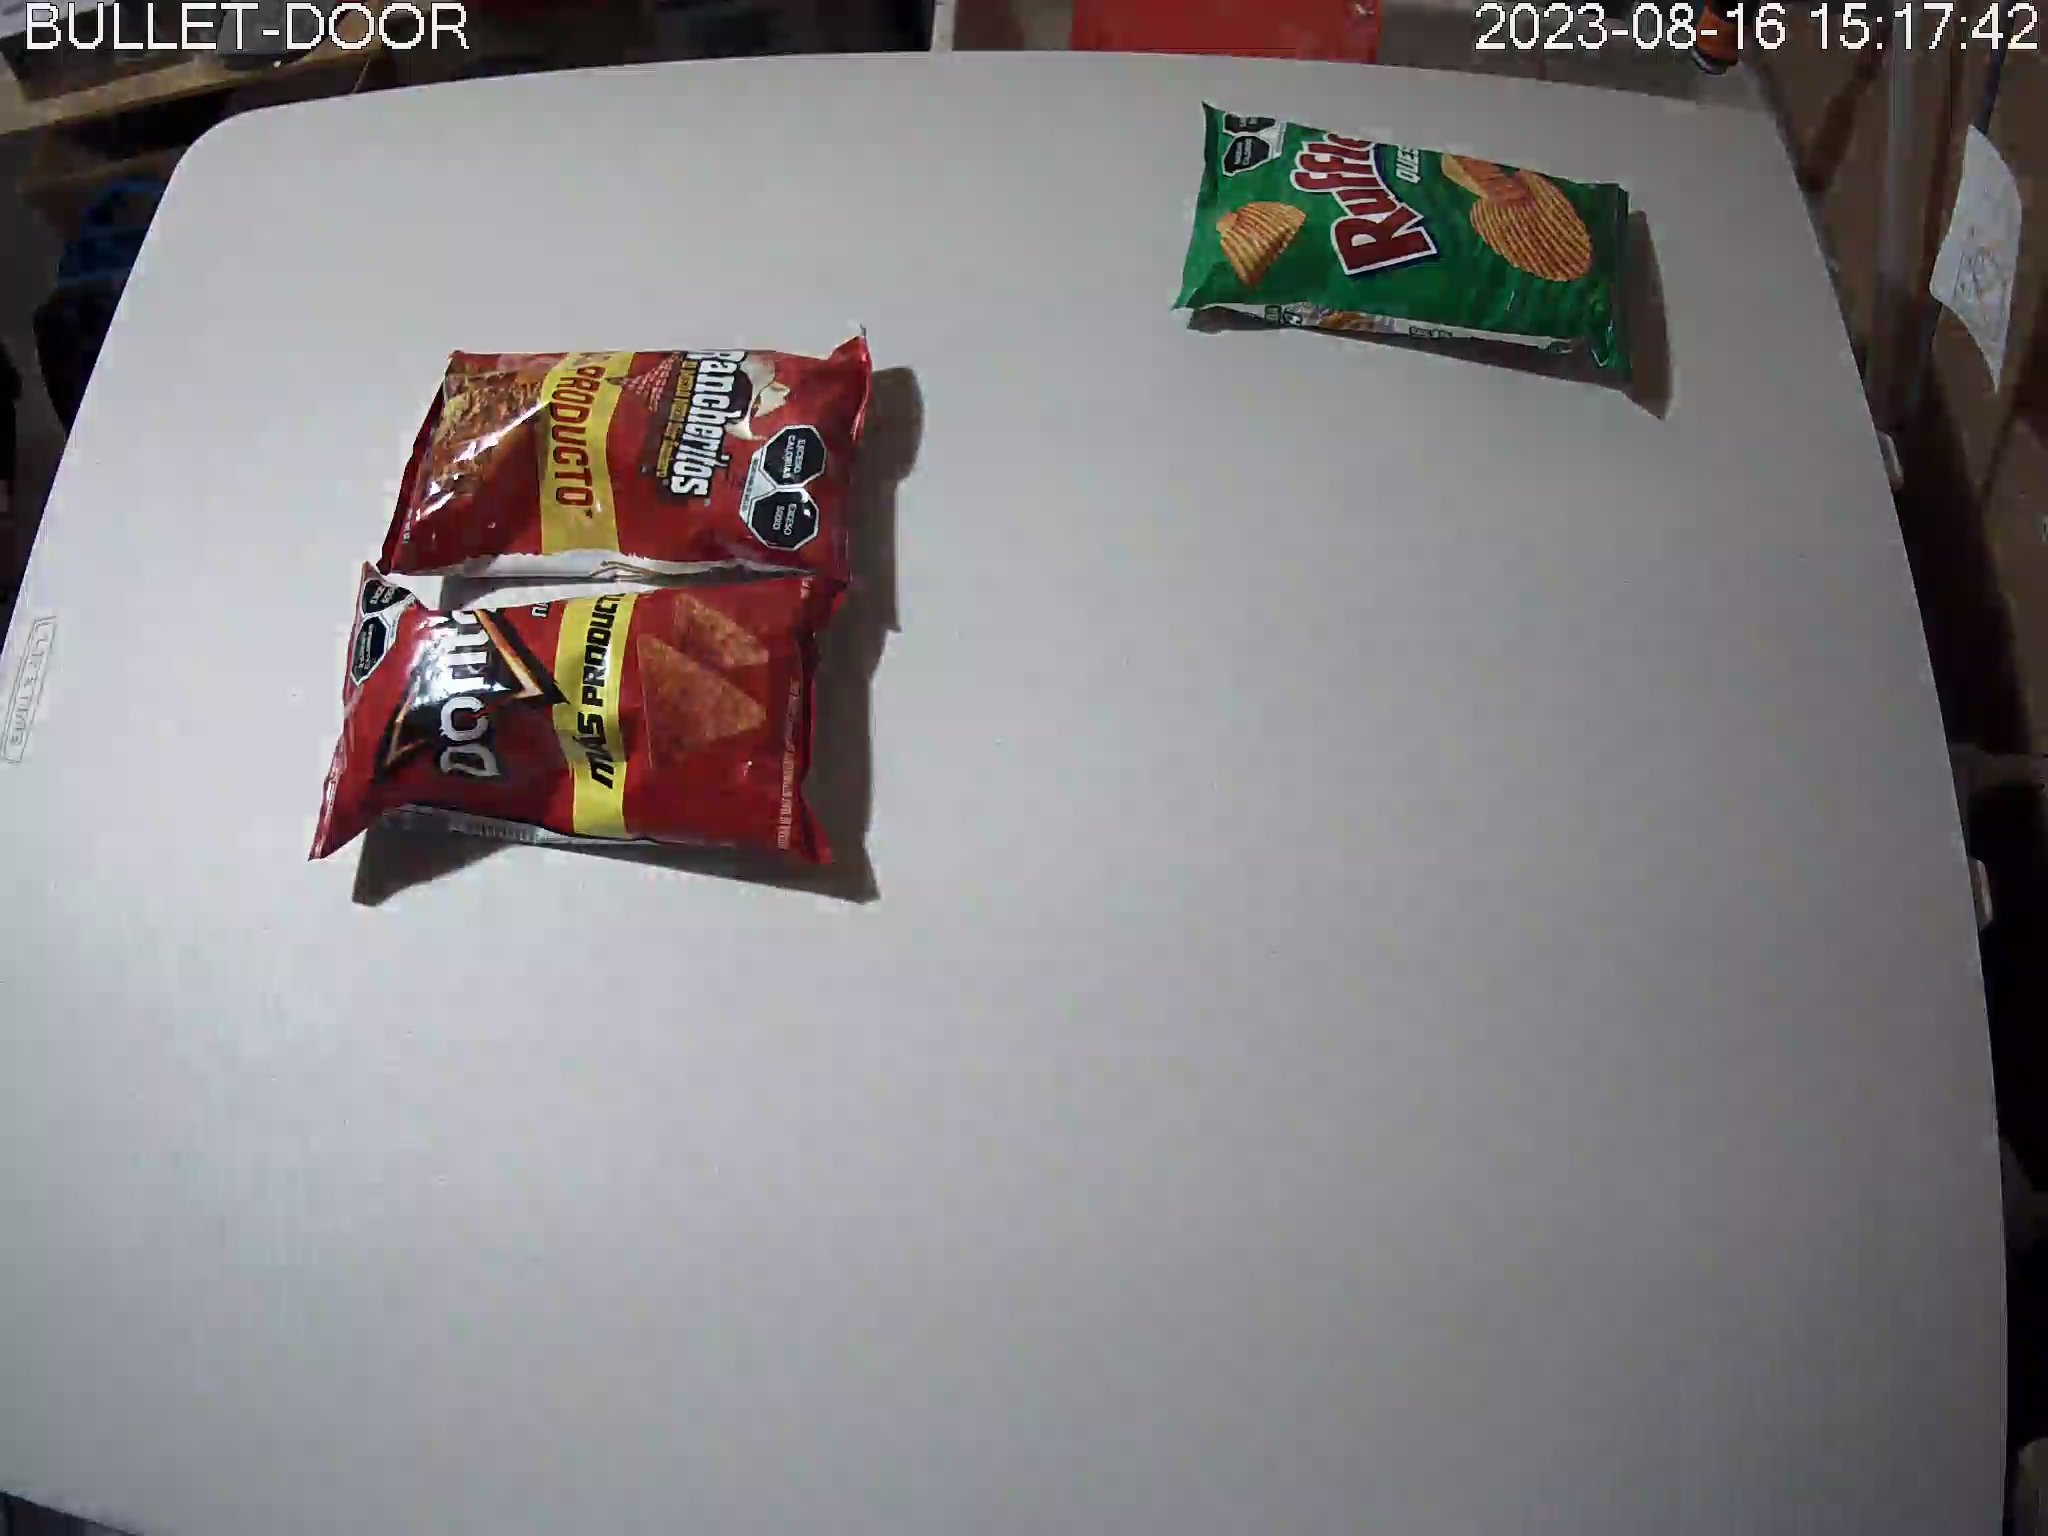DoritosN_61_F: (306, 561, 853, 870)
Rancheritos_58_F: (376, 328, 880, 592)
RufflesQ_48_F: (1171, 102, 1635, 399)
